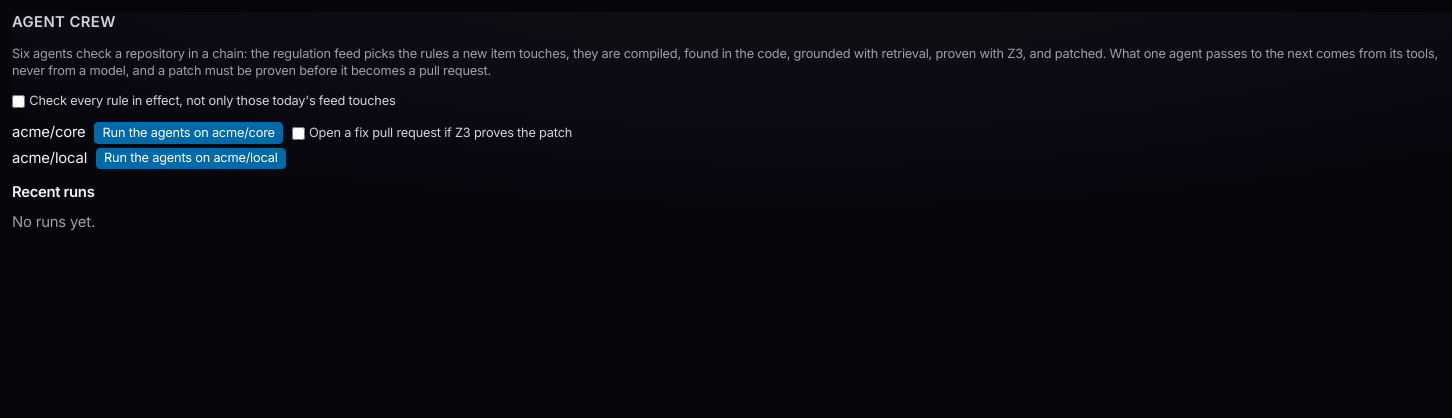
it: AgentCrewPanel › runs the agents on a GitHub repository, asks for a fix PR when ticked, and shows each step
This screenshot has width=1452, height=418.
What coordinates should you click on to do the following:
click the checkbox labelled "Open a fix pull request if Z3 proves the patch"
I would click on:
 (298, 133)
Its box is top-left (292, 127), bottom-right (305, 140).
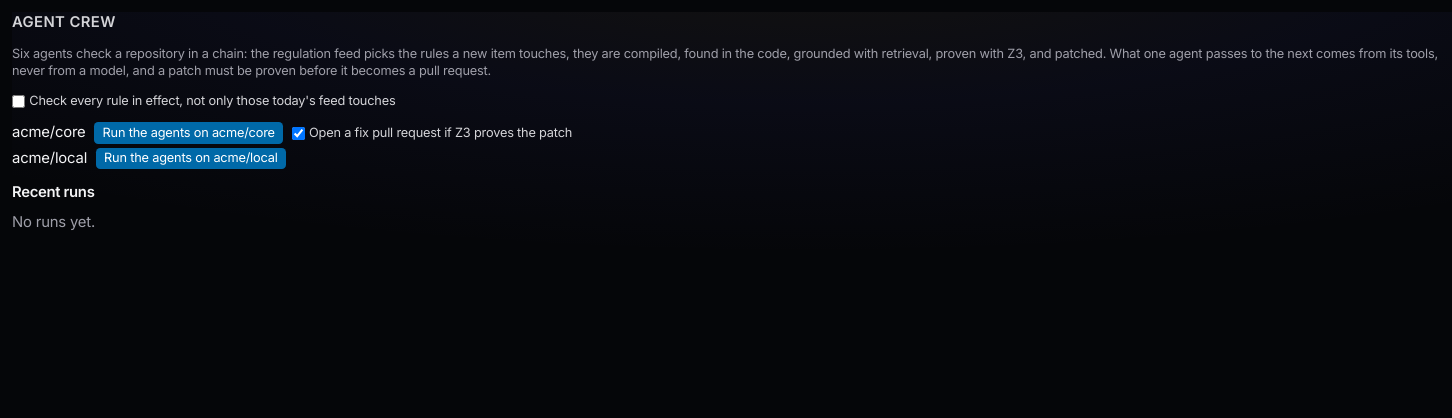
What coordinates should you click on to do the following:
click the button "Run the agents on acme/core"
I would click on:
 (189, 133)
Its box is top-left (94, 122), bottom-right (283, 144).
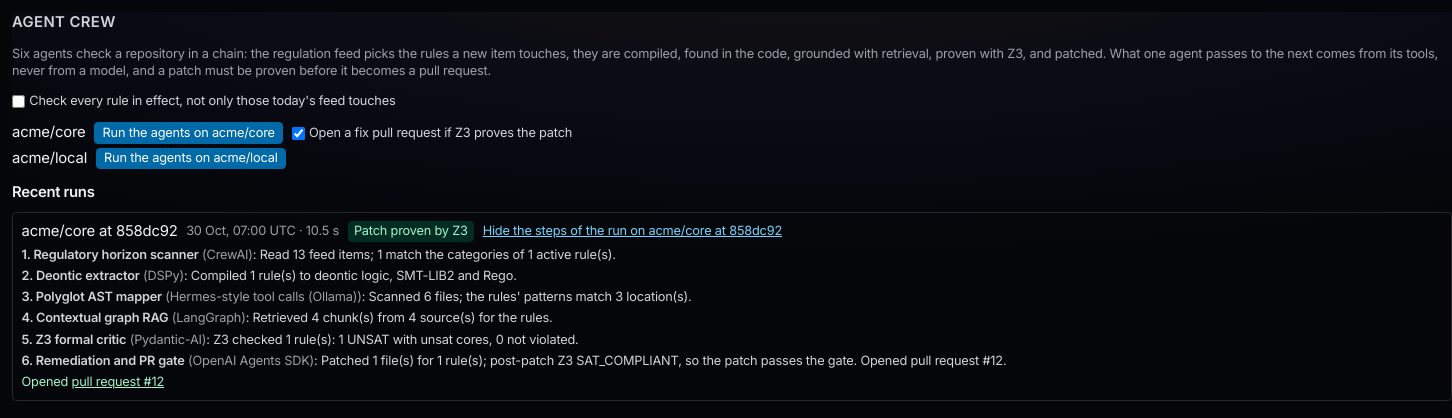
Result: the list item with aria-label "Step 1: Regulatory horizon scanner" shows "(CrewAI)" at top-left (206, 247), bottom-right (248, 262)
Result: the list item with aria-label "Step 1: Regulatory horizon scanner" shows "Read 13 feed items" at top-left (260, 247), bottom-right (616, 262)
Result: the list item with aria-label "Step 6: Remediation and PR gate" shows "post-patch Z3 SAT_COMPLIANT" at top-left (321, 353), bottom-right (1006, 368)
